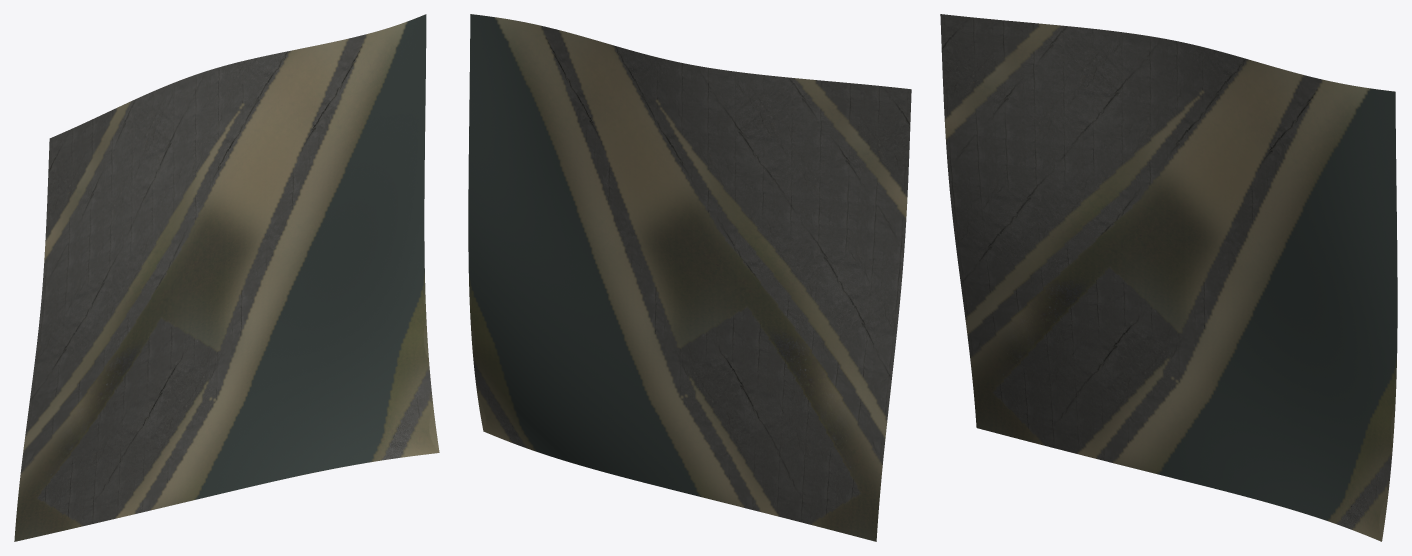
File: ground_core_07_02.obj
3 renders of one model, left to right at view 1: azimuth 30°, elevation 25°; view 2: azimuth 150°, elevation 25°; view 3: azimuth 330°, elevation 25°, orthographic. The views are drawn at different scales.
Visible parts, largest first — view 1: ground_core_07_02; view 2: ground_core_07_02; view 3: ground_core_07_02.
Part boxes in pixels (x1,y1,x2,y2): ground_core_07_02: [14, 14, 439, 541]; ground_core_07_02: [468, 14, 911, 541]; ground_core_07_02: [940, 14, 1397, 541].
Size of the model in its own units: 50 by 50 by 7.51.
1 material, 1 textured.
